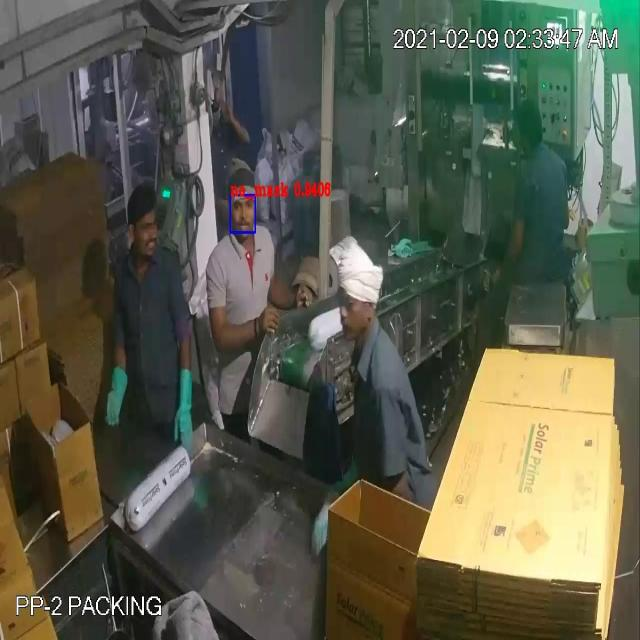gloves: (99, 354, 145, 438), (168, 361, 202, 458)
no-gloves: (203, 287, 280, 363), (253, 263, 315, 320), (495, 214, 533, 288)
